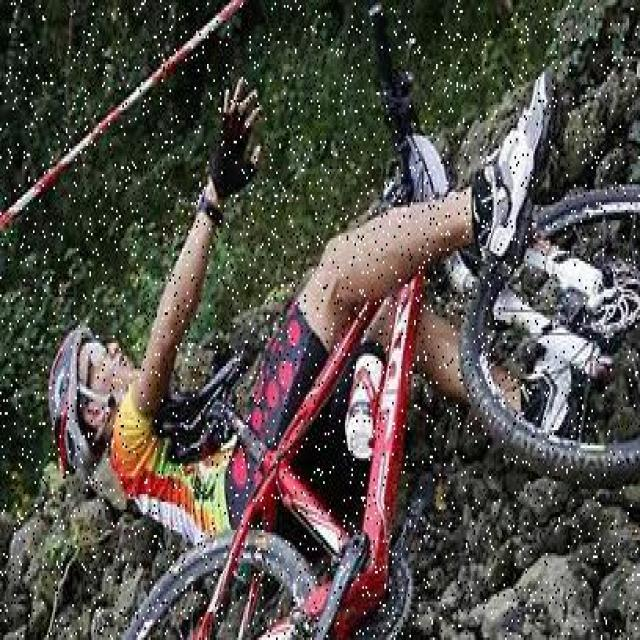fall: (49, 82, 556, 525)
